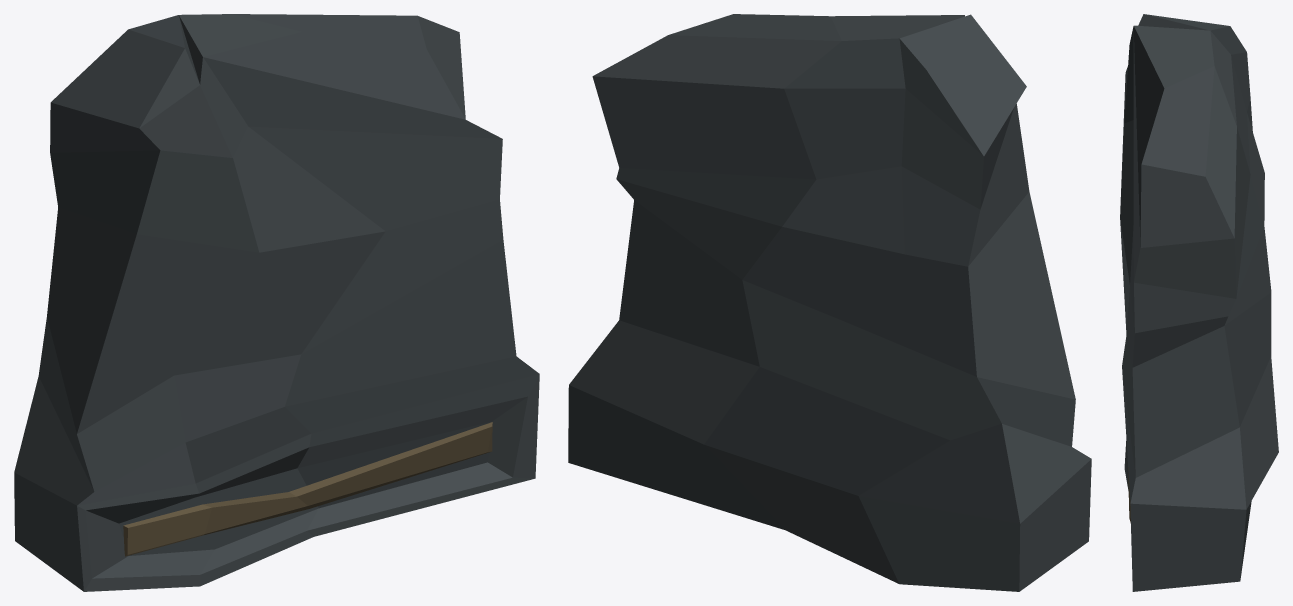
The model's file is Bland Grave 1.fbx.
3 renders of one model, left to right at view 1: azimuth 30°, elevation 25°; view 2: azimuth 150°, elevation 25°; view 3: azimuth 270°, elevation 25°, orthographic. The views are drawn at different scales.
Parts seen in each view (by area): view 1: Grave, Plaque; view 2: Grave; view 3: Grave.
Boxes of the visible parts, left/top/right/bottom form: Grave: left=14, top=14, right=539, bottom=591; Plaque: left=123, top=422, right=492, bottom=556; Grave: left=568, top=14, right=1091, bottom=591; Grave: left=1120, top=14, right=1278, bottom=591.
Size of the model in its own units: 236 by 258 by 82.17.
